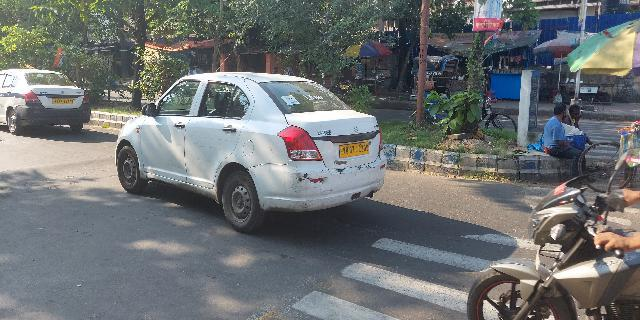Car: (113, 69, 390, 231), (1, 65, 91, 138)
Motorbike: (464, 177, 640, 320)
